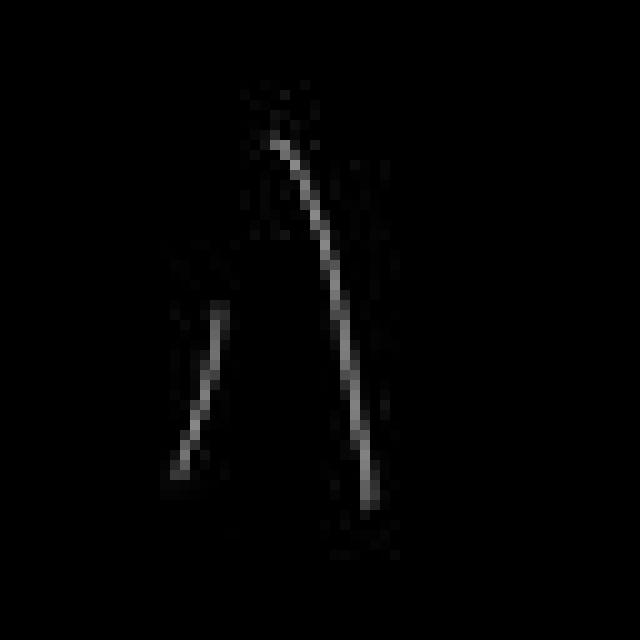8 -eight-: (149, 119, 387, 525)
